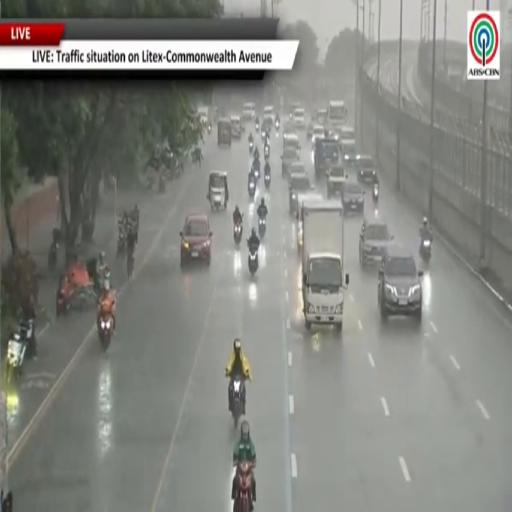car: (378, 245, 423, 322), (295, 190, 324, 250), (180, 214, 212, 266), (359, 219, 393, 266), (288, 168, 312, 214), (314, 138, 340, 179), (342, 181, 365, 214), (327, 164, 346, 198), (355, 155, 376, 183), (282, 147, 299, 177), (340, 141, 358, 168), (288, 160, 306, 183), (312, 124, 324, 148), (242, 102, 256, 122), (339, 126, 355, 143), (283, 134, 300, 150), (230, 116, 242, 138), (294, 107, 305, 130), (283, 120, 296, 137), (316, 108, 327, 124), (307, 121, 314, 139)
motorcycle: (6, 319, 34, 383), (234, 461, 253, 511), (231, 376, 245, 428), (98, 314, 113, 352), (95, 266, 110, 298), (47, 241, 59, 272), (117, 227, 127, 258), (248, 246, 258, 276), (420, 238, 431, 262), (127, 250, 134, 279), (234, 222, 242, 246), (259, 217, 266, 238), (248, 180, 256, 198), (253, 162, 260, 180), (373, 184, 379, 205), (159, 175, 165, 194), (264, 173, 271, 189), (264, 144, 269, 159), (249, 141, 253, 154), (275, 120, 280, 130), (255, 122, 259, 132), (208, 123, 211, 134)
truck: (301, 200, 348, 331)
